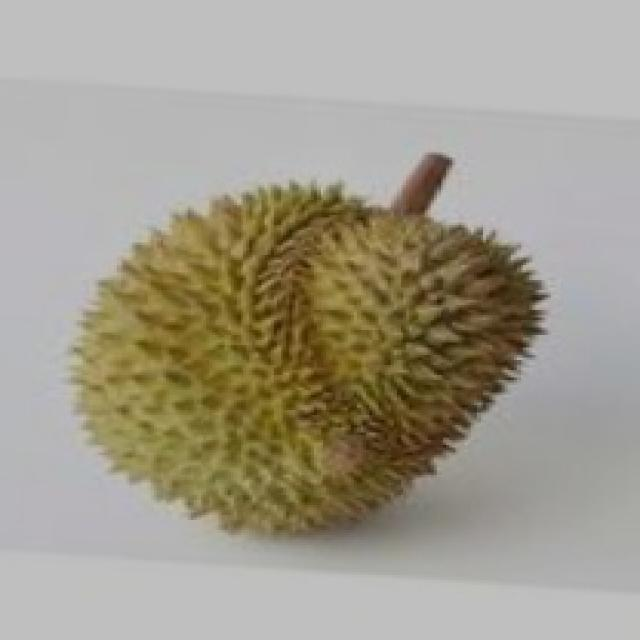fruit: (203, 175, 600, 587), (12, 175, 378, 595)
